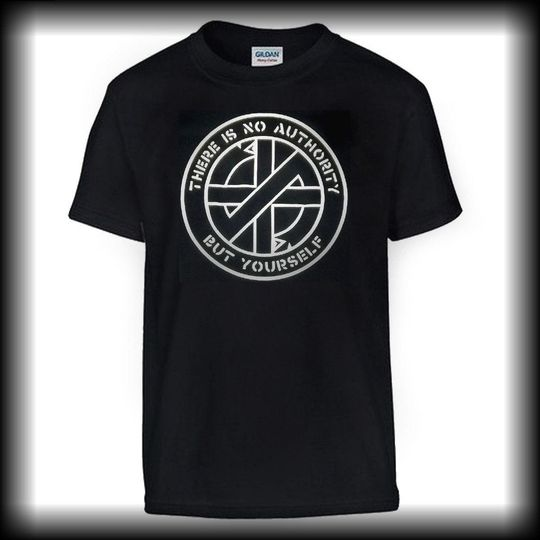design: (178, 109, 350, 283)
